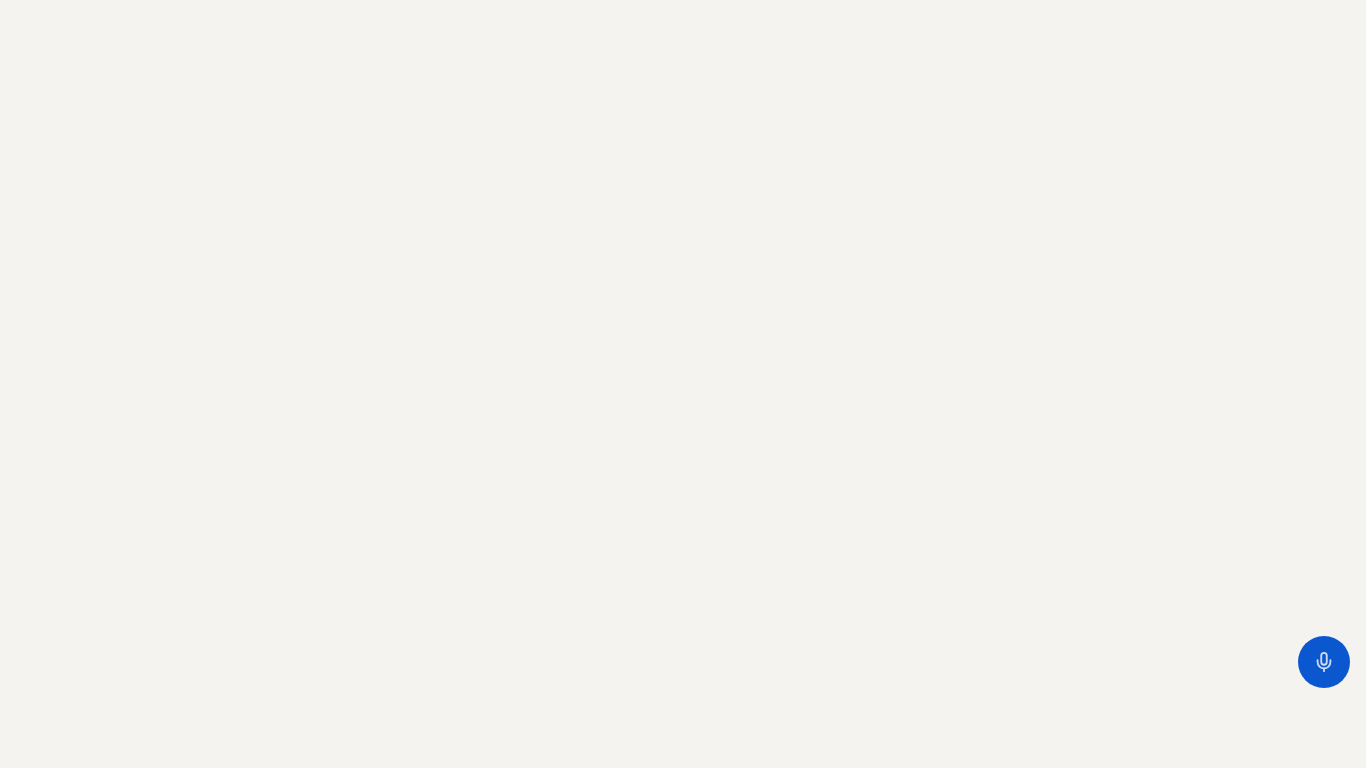
自由に話す › 空欄が多いときは、案内と 1 文の例を添えて「自由に話す」から始まる
Click the button named "音声入力を開始".
click(1324, 662)  # box [1298,636,1350,688]
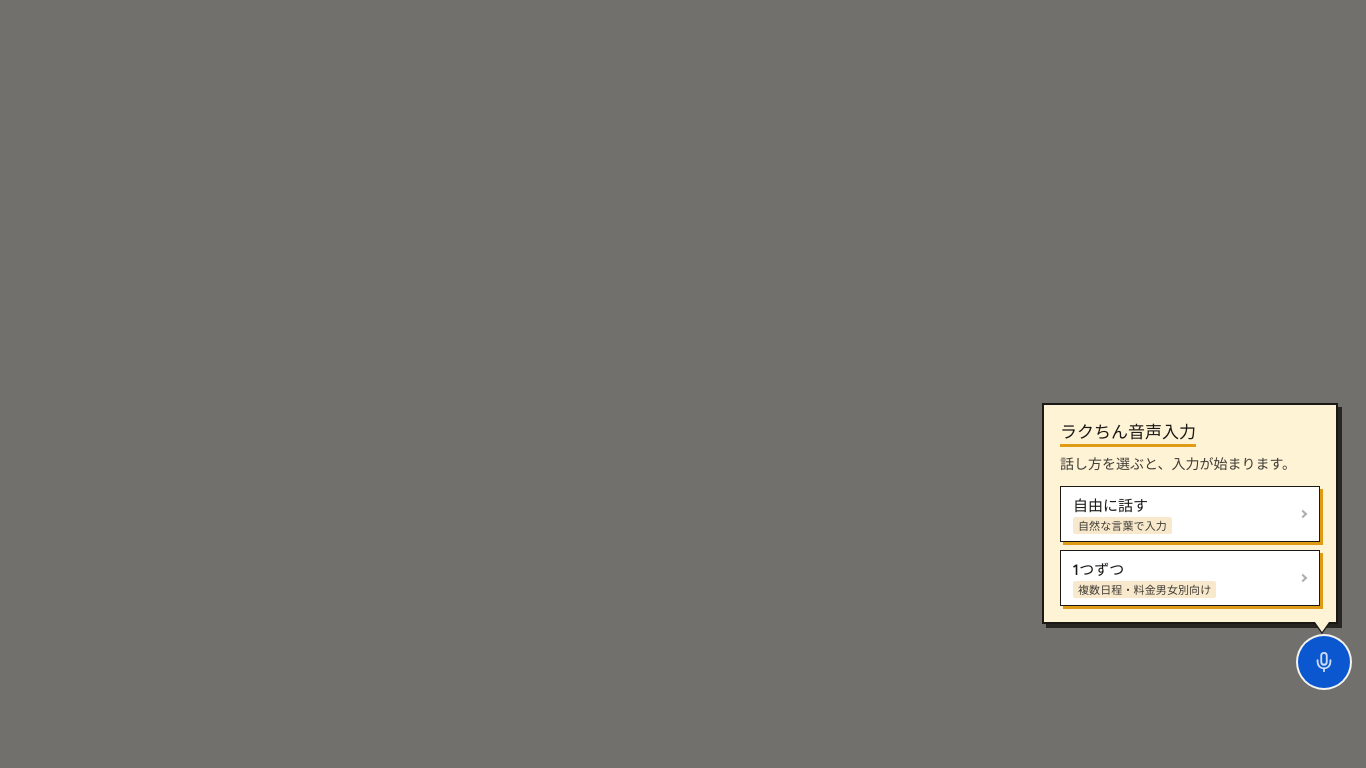
Click the button "自由に話す 自然な言葉で入力".
click(1111, 505)  # box [1060,486,1320,542]
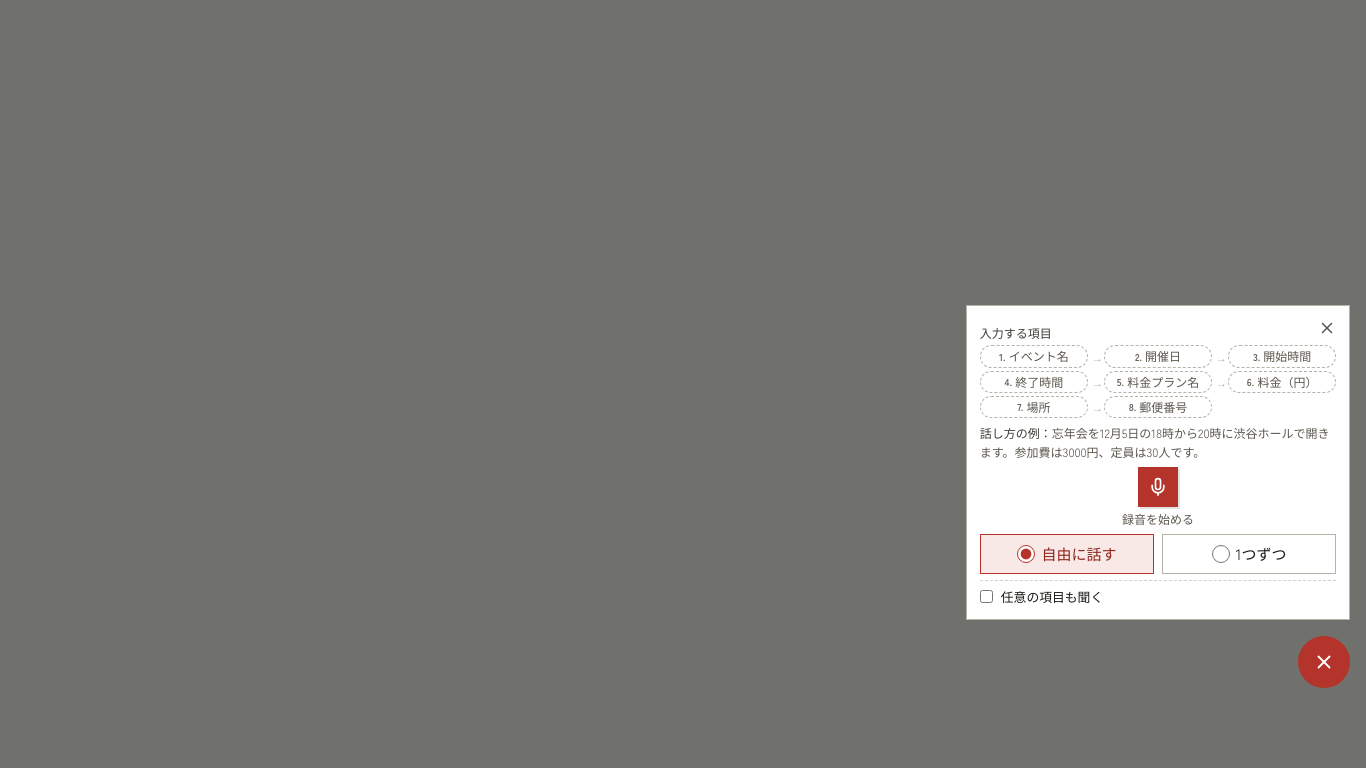
Check: the radio button labelled "自由に話す" is checked, box [1017,545,1035,563]
Check: the radio button labelled "1つずつ" is not checked, box [1212,545,1230,563]
Check: the text "話し方の例：" is shown, box [980,424,1052,441]
Click the button named "録音を始める".
click(1158, 487)  # box [1138,467,1178,507]
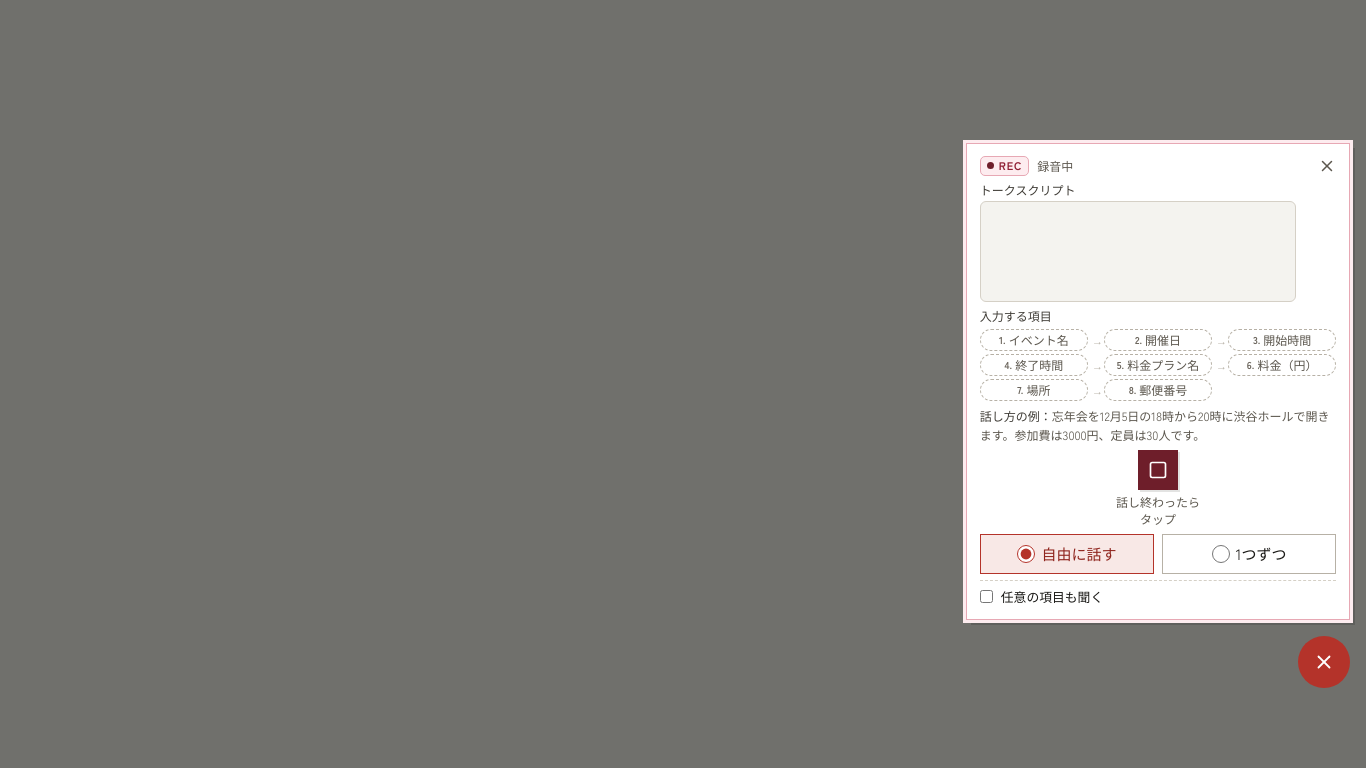
Check: the button named "録音を停止" is shown, box [1138,450,1178,490]
